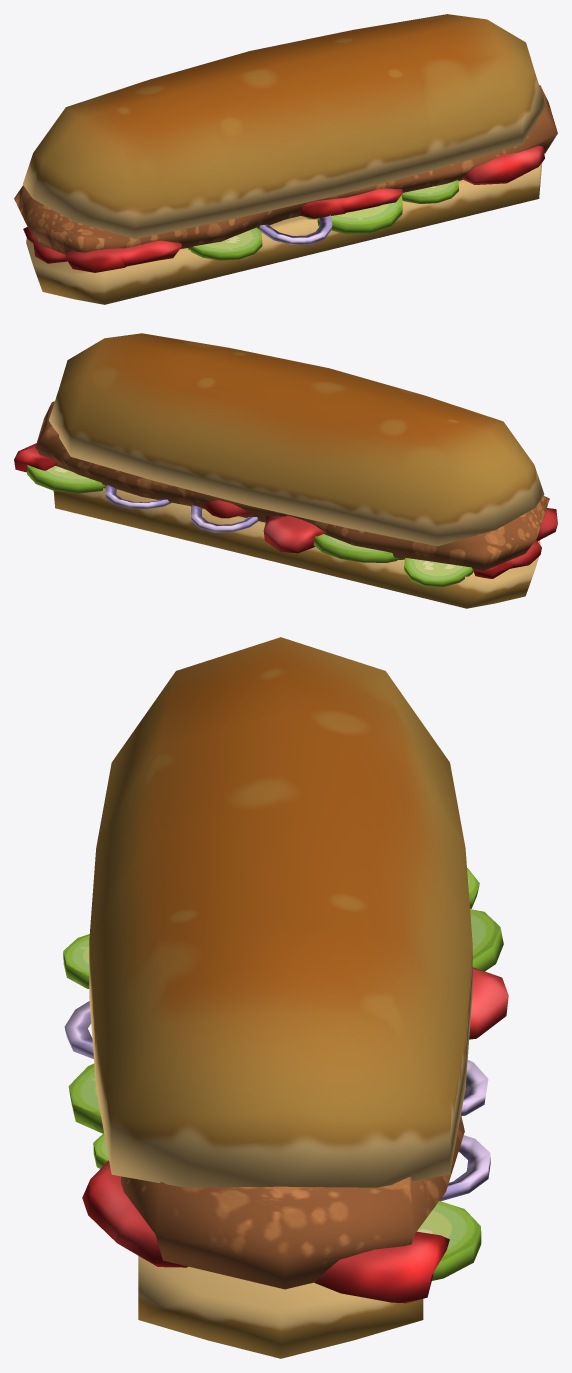
Rendered from Longer.fbx.
The picture shows the model from 3 angles, top to bottom: view 1: azimuth 30°, elevation 25°; view 2: azimuth 150°, elevation 25°; view 3: azimuth 270°, elevation 25°; orthographic projection. The views are drawn at different scales.
Visible parts, largest first — view 1: Cube.006; view 2: Cube.006; view 3: Cube.006.
Boxes of the visible parts, x1,y1,x2,y2 form: Cube.006: [14, 14, 557, 304]; Cube.006: [14, 333, 557, 608]; Cube.006: [63, 637, 508, 1358].
Bounding box in the file's own units: 584 × 191 × 228.
